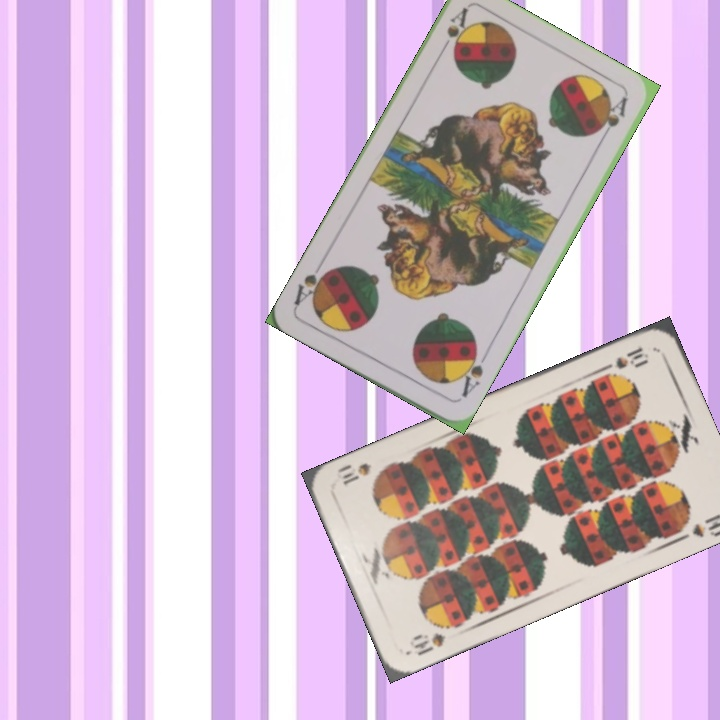S10: (598, 343, 651, 373), (410, 628, 448, 658)
SA: (453, 344, 491, 400), (435, 3, 471, 58)
